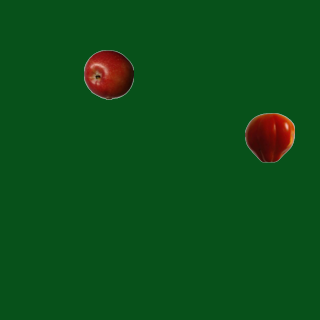Apple Braeburn: (83, 49, 133, 99)
Tomato 1: (244, 112, 294, 162)
